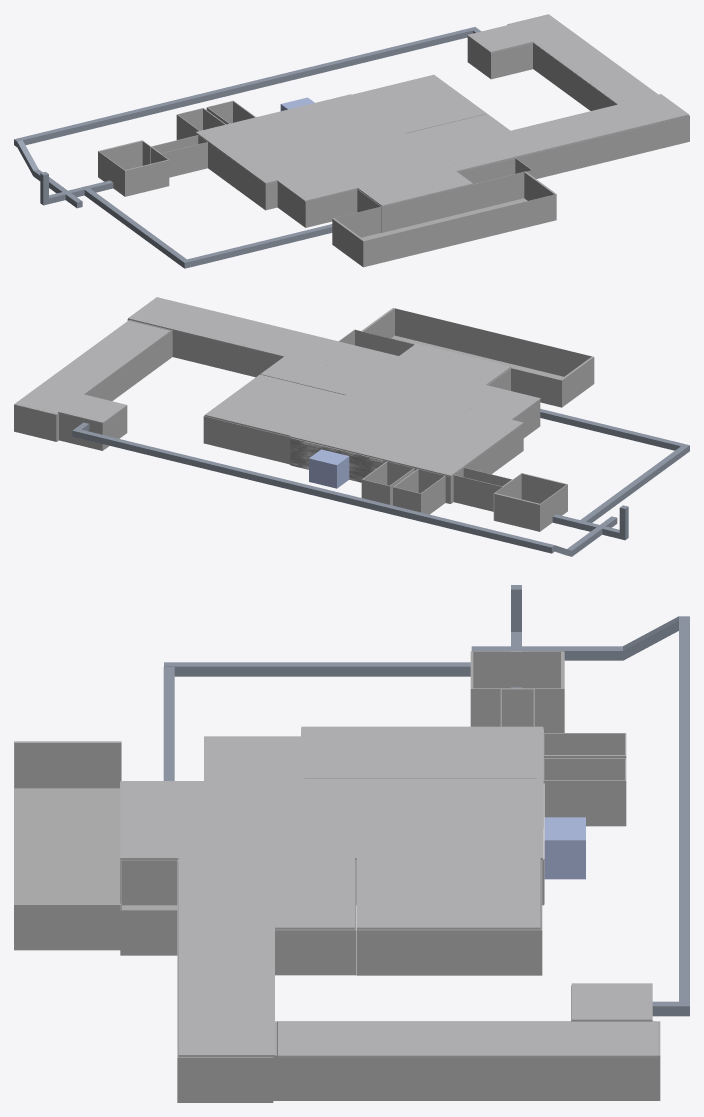
File: BuildingModelUpdated.glb
3 views of the same model, one above another, from view 1: azimuth 30°, elevation 25°; view 2: azimuth 150°, elevation 25°; view 3: azimuth 270°, elevation 25° (orthographic). The views are drawn at different scales.
Parts seen in each view (by area): view 1: Cube.043, Cube.025, Cube.044, Cube.027, Cube.049, Cube.045, Cube.047, Cube.040, Cube.032, Cube.021, Cube.028, Cube.034 (+13 smaller); view 2: Cube.043, Cube.025, Cube.044, Cube.049, Cube.047, Cube.045, Cube.040, Cube.034, Cube.032, Cube.027, Cube.023, Cube.022 (+14 smaller); view 3: Cube.043, Cube.025, Cube.044, Cube.034, Cube.045, Cube.049, Cube.047, Cube.023, Cube.032, Cube.046, Cube.029, Cube.027 (+12 smaller).
Boxes of the visible parts, <box> form: Cube.043: <box>260,94,472,206</box>; Cube.025: <box>332,171,556,267</box>; Cube.044: <box>428,94,688,171</box>; Cube.027: <box>458,115,689,183</box>; Cube.049: <box>195,116,328,184</box>; Cube.045: <box>509,14,657,104</box>; Cube.047: <box>351,74,486,133</box>; Cube.040: <box>14,27,477,146</box>; Cube.032: <box>98,140,169,196</box>; Cube.021: <box>357,185,472,232</box>; Cube.028: <box>277,182,357,227</box>; Cube.034: <box>507,14,617,110</box>; Cube.043: <box>289,343,510,460</box>; Cube.025: <box>360,308,594,407</box>; Cube.044: <box>128,297,398,377</box>; Cube.049: <box>384,406,523,476</box>; Cube.047: <box>204,374,345,436</box>; Cube.045: <box>15,320,170,414</box>; Cube.040: <box>72,428,555,553</box>; Cube.034: <box>14,320,172,441</box>; Cube.032: <box>493,473,567,531</box>; Cube.027: <box>127,319,282,377</box>; Cube.023: <box>203,416,289,464</box>; Cube.022: <box>383,424,523,503</box>; Cube.043: <box>120,781,542,860</box>; Cube.025: <box>14,741,121,950</box>; Cube.044: <box>178,857,274,1057</box>; Cube.034: <box>273,1021,660,1100</box>; Cube.045: <box>278,1021,657,1057</box>; Cube.049: <box>301,726,543,782</box>; Cube.047: <box>356,858,540,929</box>; Cube.023: <box>356,860,542,975</box>; Cube.032: <box>470,651,564,732</box>; Cube.046: <box>274,858,354,929</box>; Cube.029: <box>544,758,626,826</box>; Cube.027: <box>177,860,273,1102</box>.
Size of the model in its own units: 81.23 by 4.29 by 49.85.
23 materials, 1 textured.
